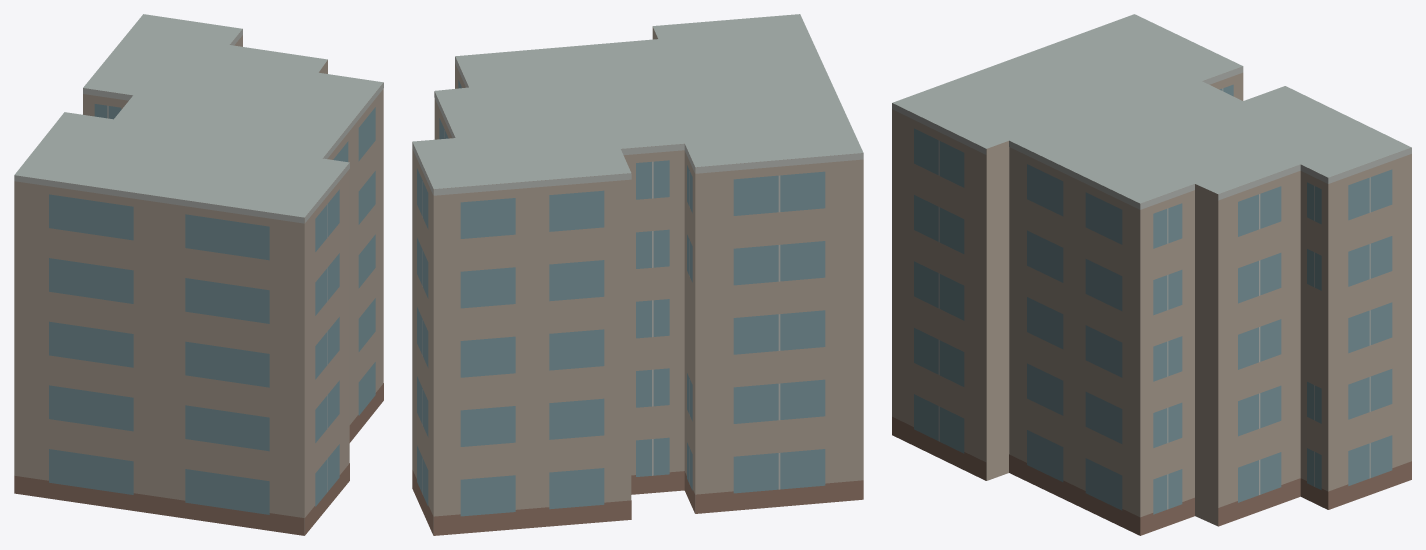
The model's file is survey-upis-32739799.glb.
The picture shows the model from 3 angles, left to right: view 1: azimuth 30°, elevation 25°; view 2: azimuth 150°, elevation 25°; view 3: azimuth 270°, elevation 25°; orthographic projection. The views are drawn at different scales.
Parts seen in each view (by area): view 1: survey-upis-32739799.tmp; view 2: survey-upis-32739799.tmp; view 3: survey-upis-32739799.tmp.
Part boxes in pixels (x1,y1,x2,y2): survey-upis-32739799.tmp: [14, 14, 383, 535]; survey-upis-32739799.tmp: [412, 14, 863, 535]; survey-upis-32739799.tmp: [892, 14, 1411, 535].
Size of the model in its own units: 15.8 by 12.9 by 18.3.
